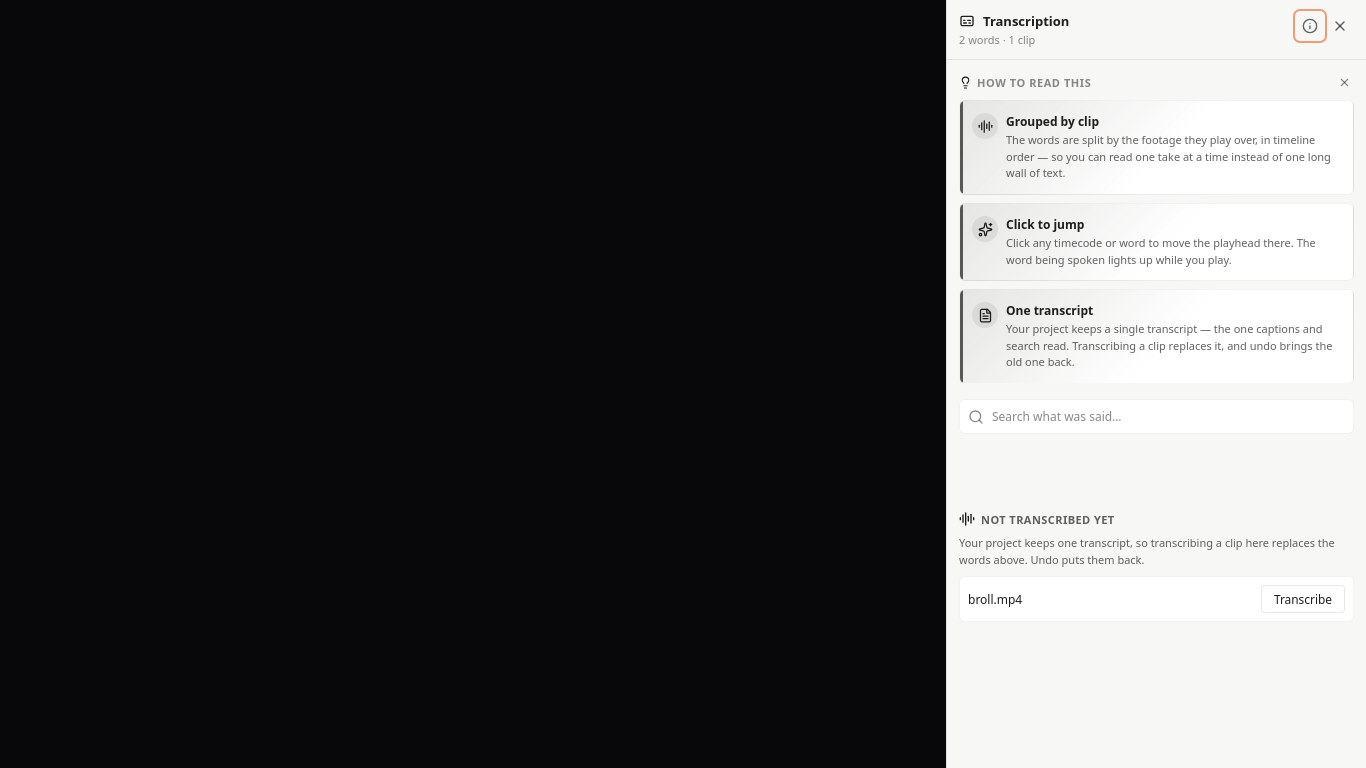
Scenario: TranscriptionPanel › reports a provider failure instead of pretending it worked
The image size is (1366, 768).
Click the button "Transcribe". click: (1303, 599)
box: [1261,585,1345,613]
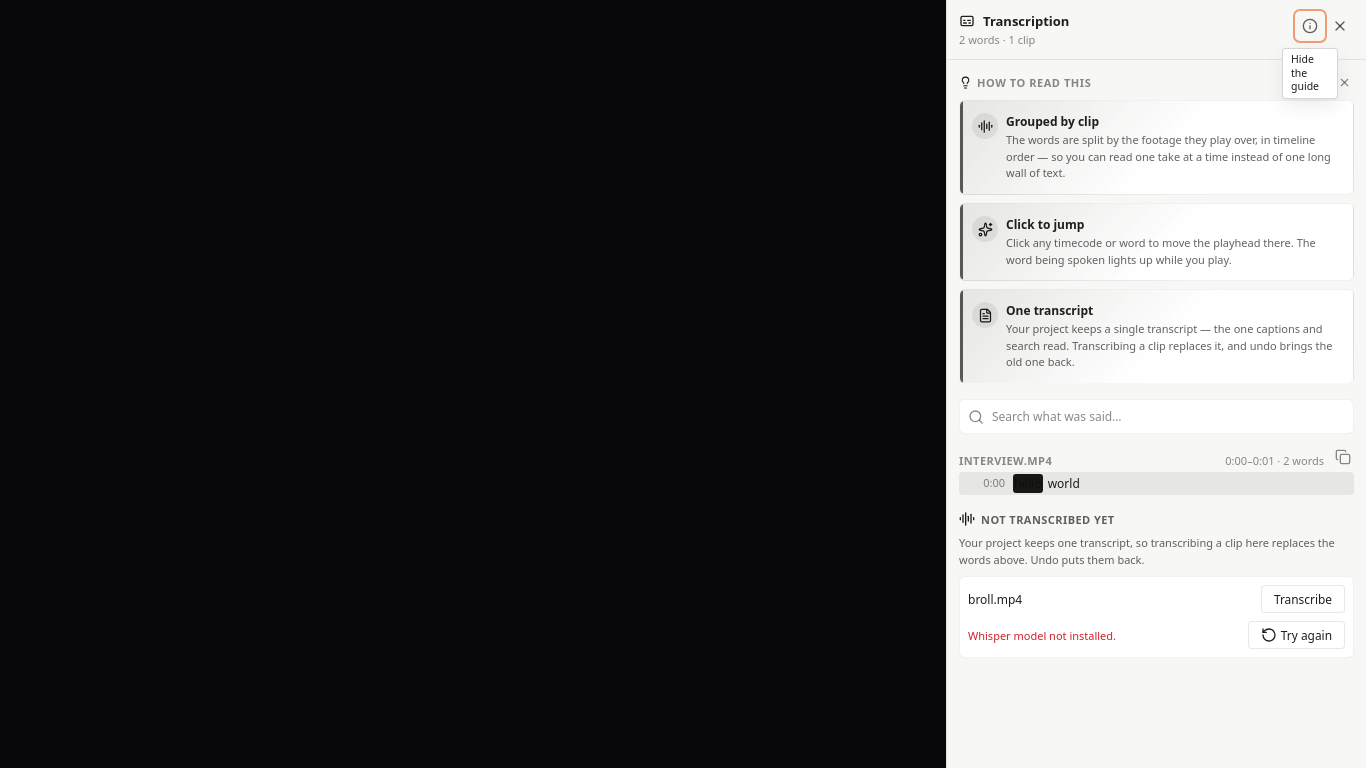
Result: the message shows "Whisper model not installed." at [968,628,1116,643]
